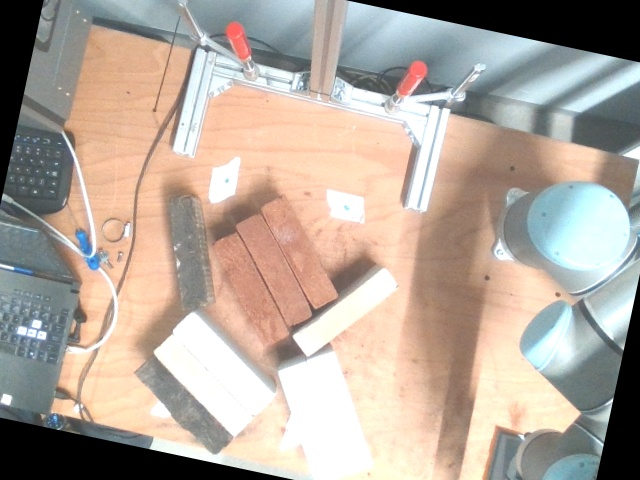brick-side: (175, 316, 270, 414), (153, 335, 248, 433), (137, 358, 229, 453), (296, 270, 397, 354), (212, 235, 287, 346), (236, 215, 310, 326), (261, 197, 335, 307), (309, 357, 369, 472), (280, 366, 340, 479), (171, 199, 203, 305)
